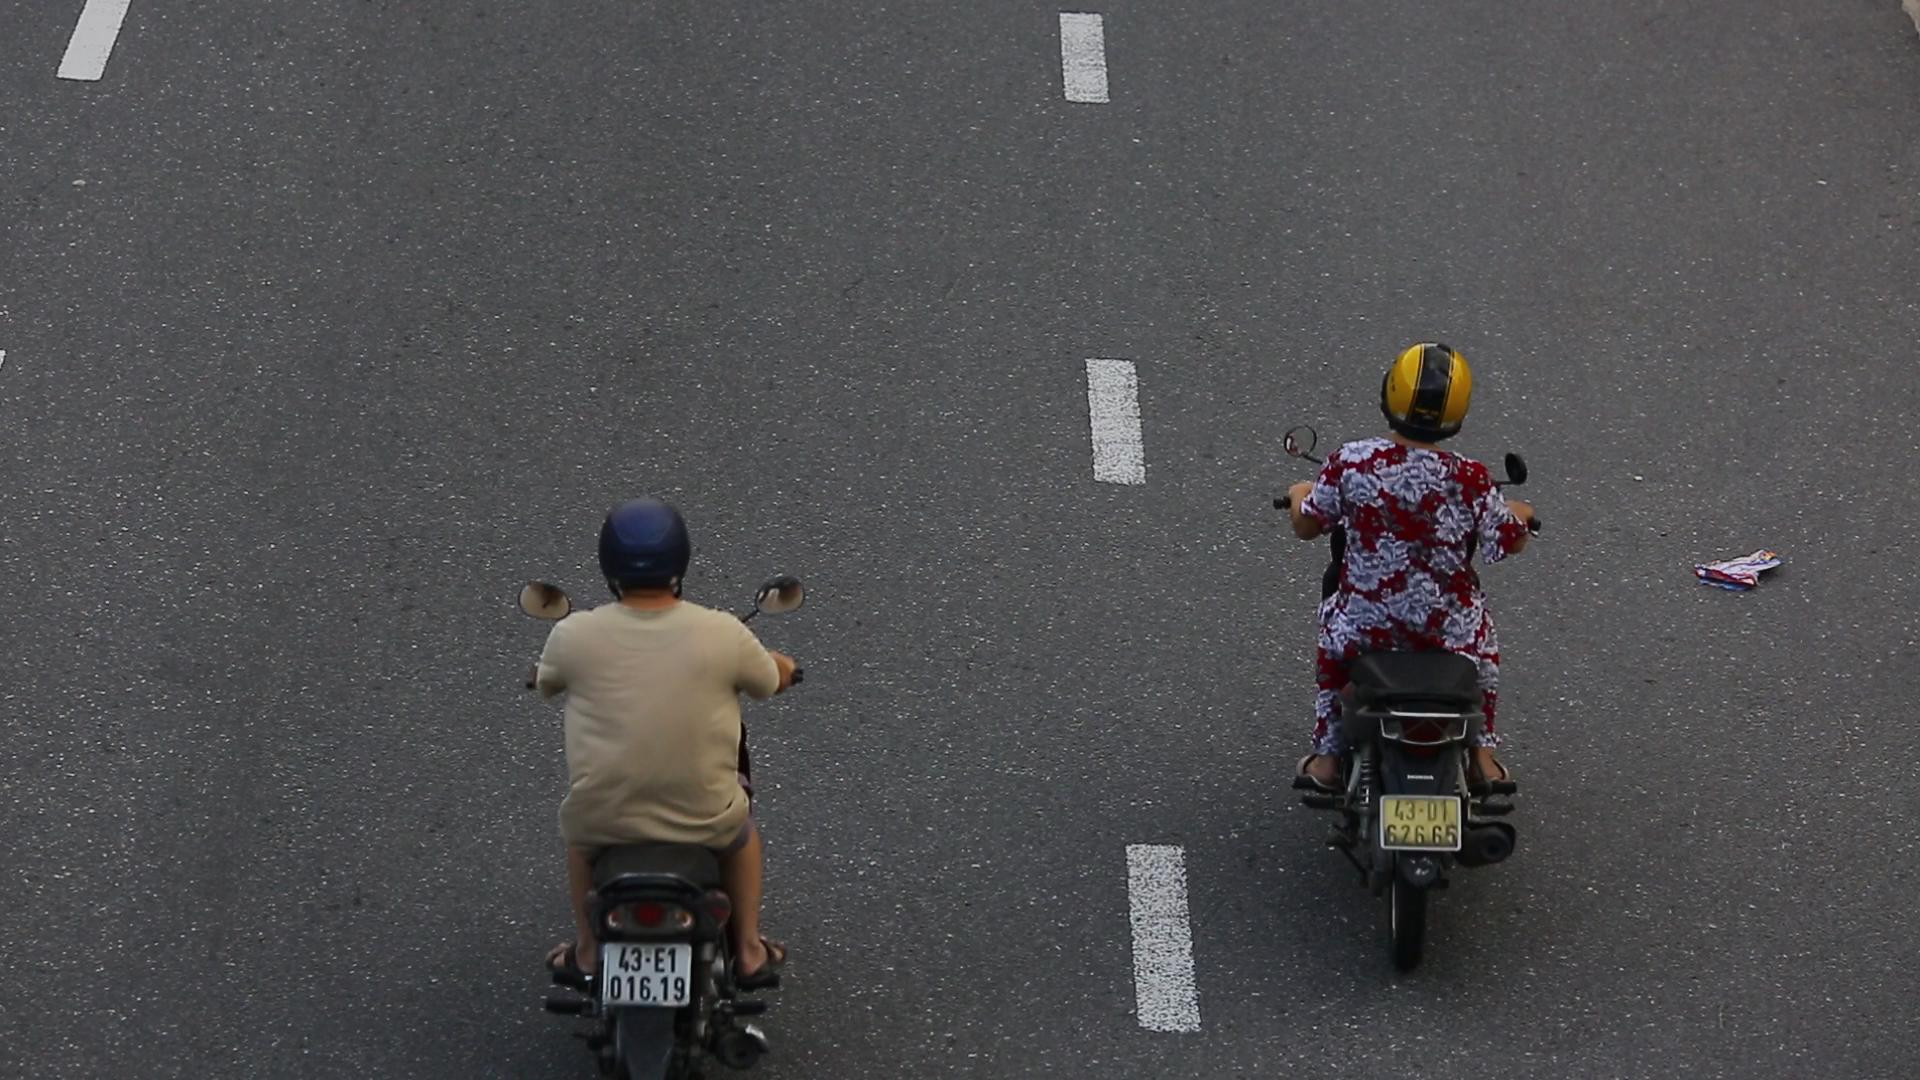motobike: (1196, 307, 1559, 1006), (459, 464, 799, 1080)
